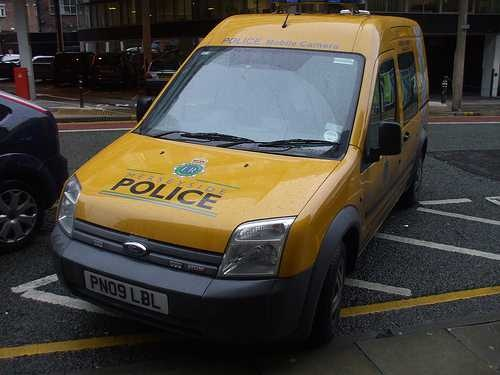Police Van: (46, 4, 434, 358)
